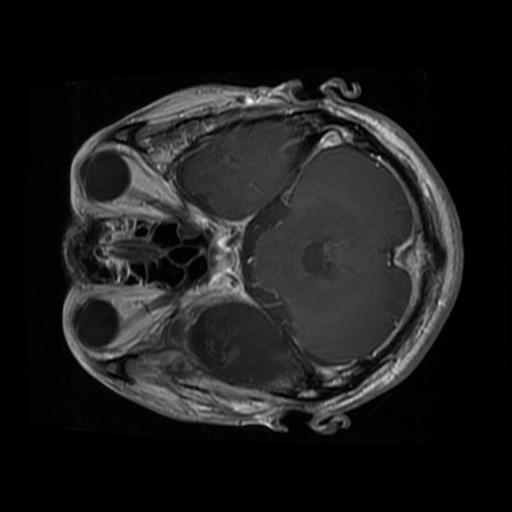glioma: (189, 303, 308, 389)
